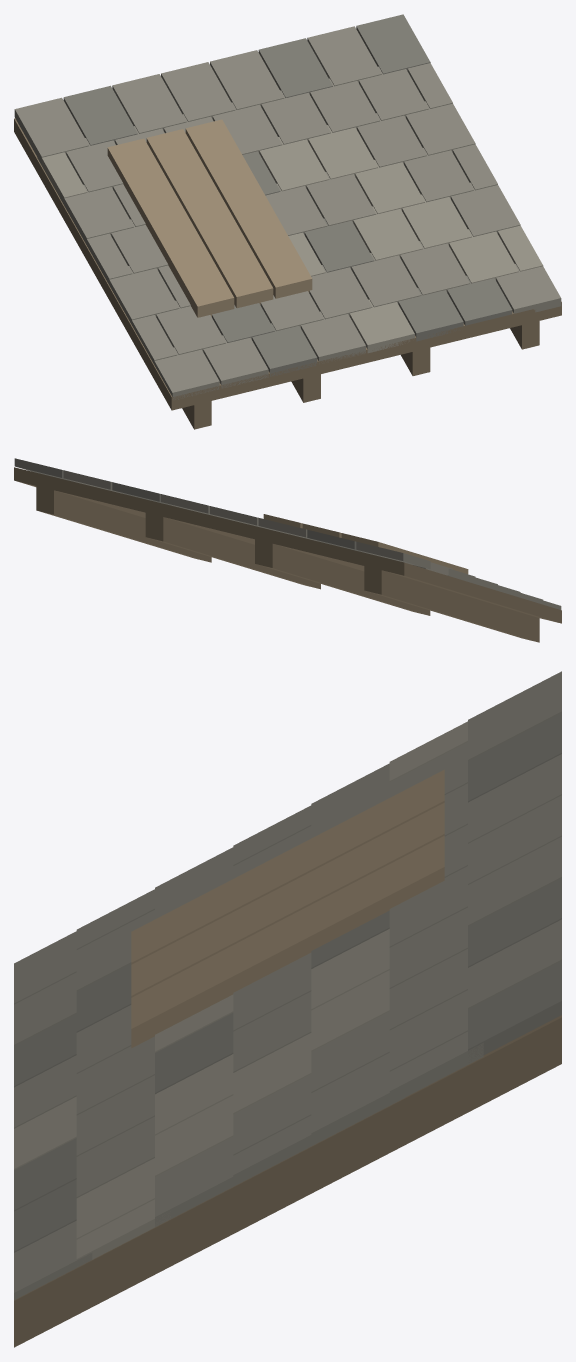
The model's file is env_roof_shingle_fine_b_v01_broad_patch.glb.
3 renders of one model, top to bottom at view 1: azimuth 30°, elevation 25°; view 2: azimuth 150°, elevation 25°; view 3: azimuth 270°, elevation 25°, orthographic. The views are drawn at different scales.
Visible parts, largest first — view 1: material_4, material_3, material_6, material_5, material_2; view 2: material_2, material_4, material_6, material_3; view 3: material_4, material_3, material_6, material_5, material_2.
Boxes of the visible parts, x1,y1,x2,y2 form: material_4: [14, 26, 561, 399]; material_3: [107, 119, 312, 317]; material_6: [63, 14, 512, 376]; material_5: [37, 125, 543, 353]; material_2: [14, 118, 561, 429]; material_2: [14, 467, 561, 642]; material_4: [63, 470, 561, 609]; material_6: [14, 458, 371, 554]; material_3: [263, 514, 468, 574]; material_4: [14, 671, 561, 1300]; material_3: [131, 769, 444, 1048]; material_6: [14, 713, 561, 1252]; material_5: [14, 721, 467, 1266]; material_2: [14, 1015, 561, 1347].
Bounding box in the file's own units: 2 × 1.03 × 1.4.
